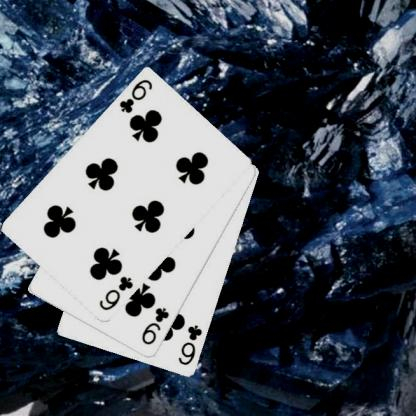6C: (96, 274, 135, 312), (116, 77, 154, 115), (176, 323, 204, 367)
9C: (139, 304, 171, 347)
